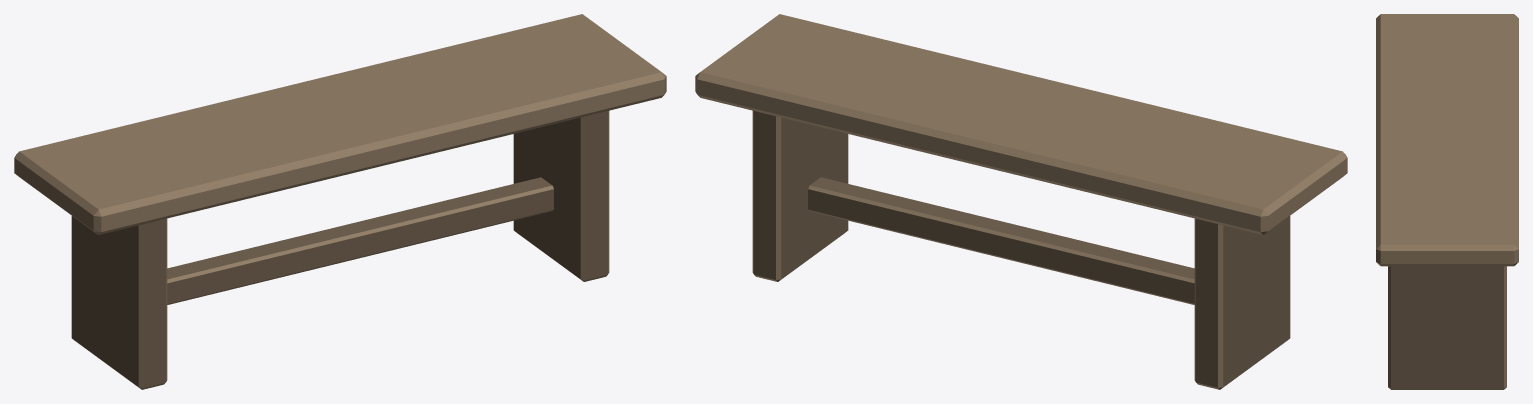
File: bench.glb
3 views of the same model, side by side, from view 1: azimuth 30°, elevation 25°; view 2: azimuth 150°, elevation 25°; view 3: azimuth 270°, elevation 25° (orthographic). The views are drawn at different scales.
Parts seen in each view (by area): view 1: Bench; view 2: Bench; view 3: Bench.
Part boxes in pixels (x1,y1,x2,y2): Bench: [14, 14, 666, 389]; Bench: [695, 14, 1347, 389]; Bench: [1376, 14, 1518, 389].
Size of the model in its own units: 1.4 by 0.46 by 0.36.
